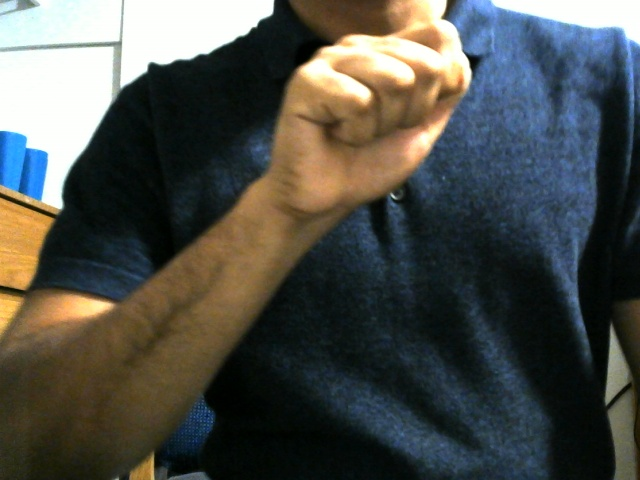A: (268, 14, 479, 222)
